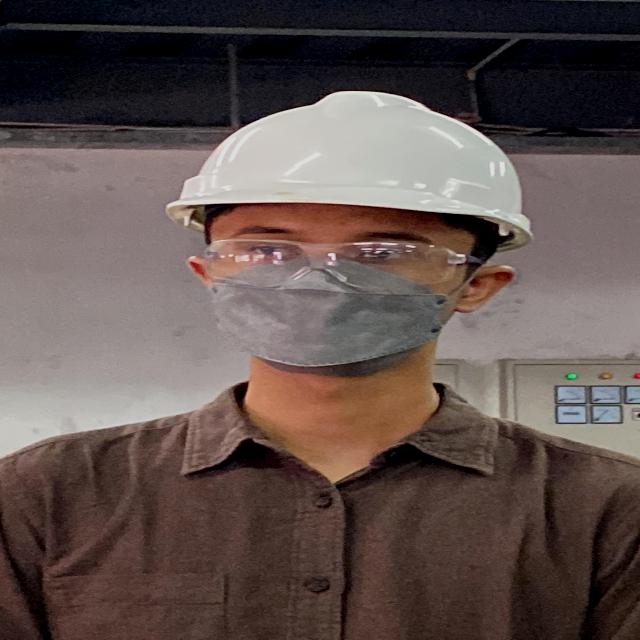face_mask: (197, 226, 468, 375)
glasses: (194, 230, 498, 291)
head_helmet: (181, 82, 535, 228)
